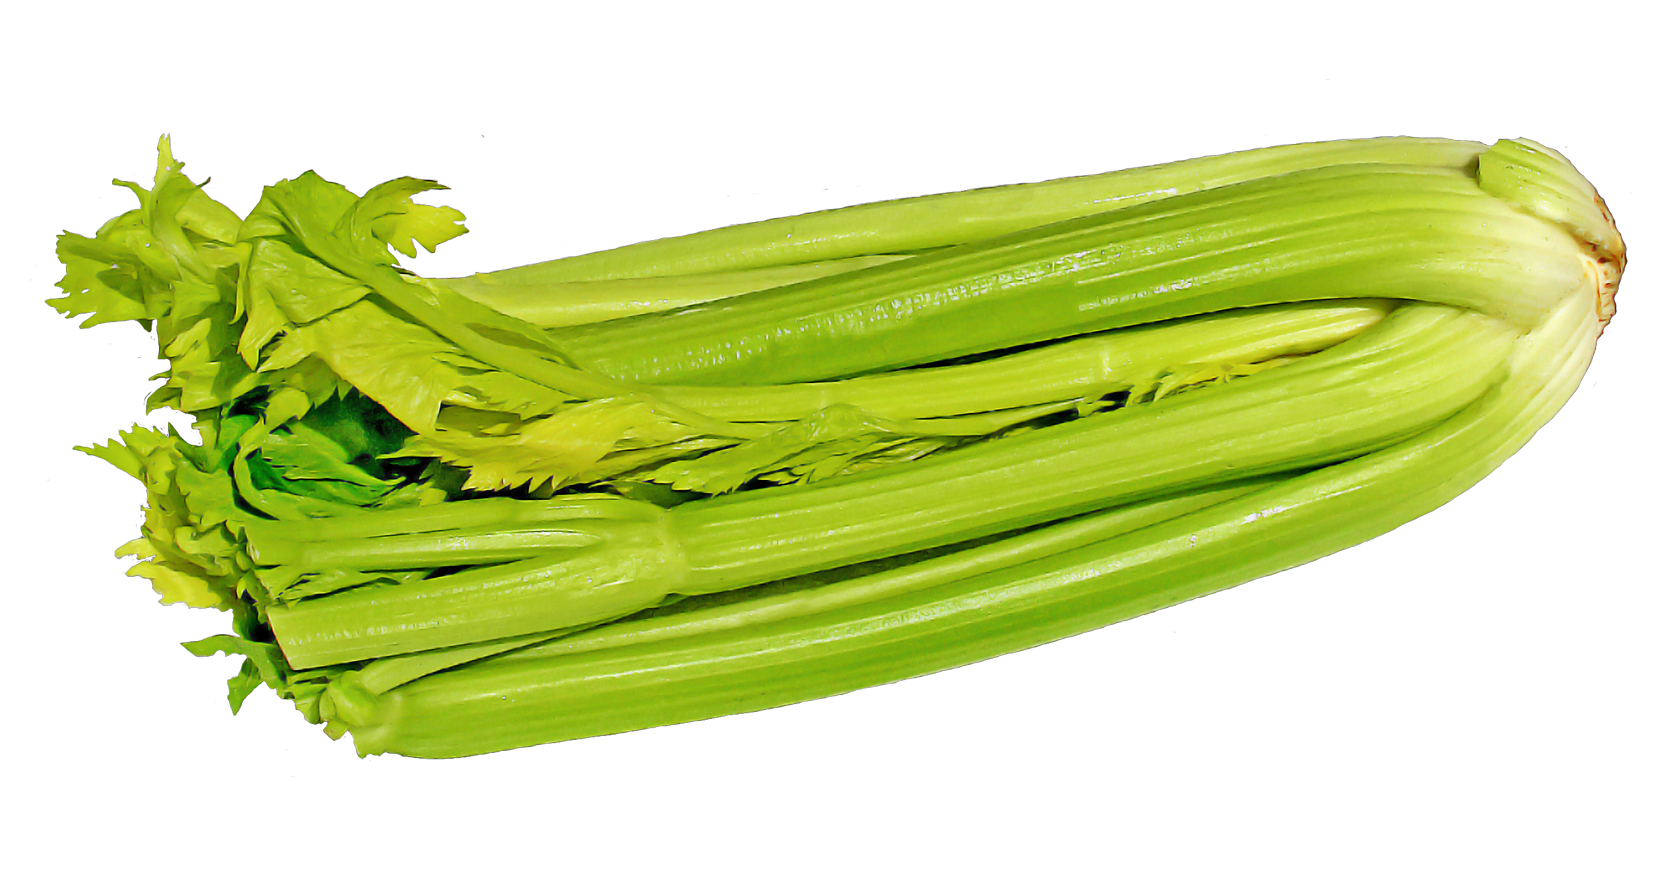Seledri: (76, 141, 1679, 695)
